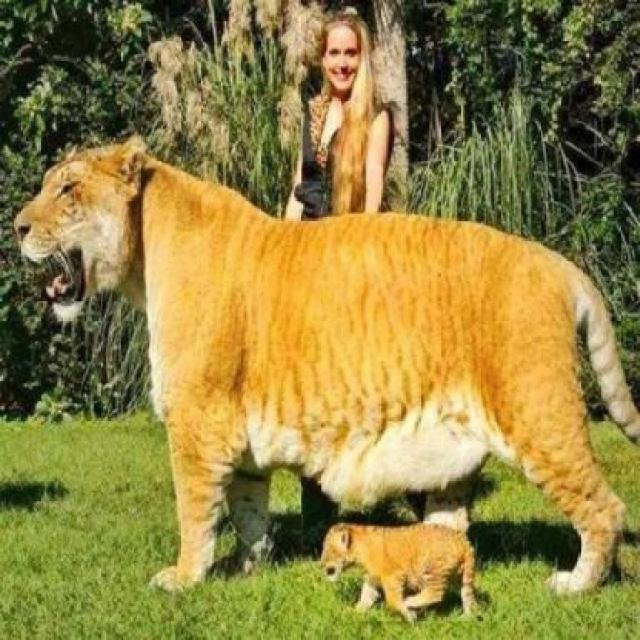Tiger: (30, 128, 639, 549), (300, 491, 509, 627)
